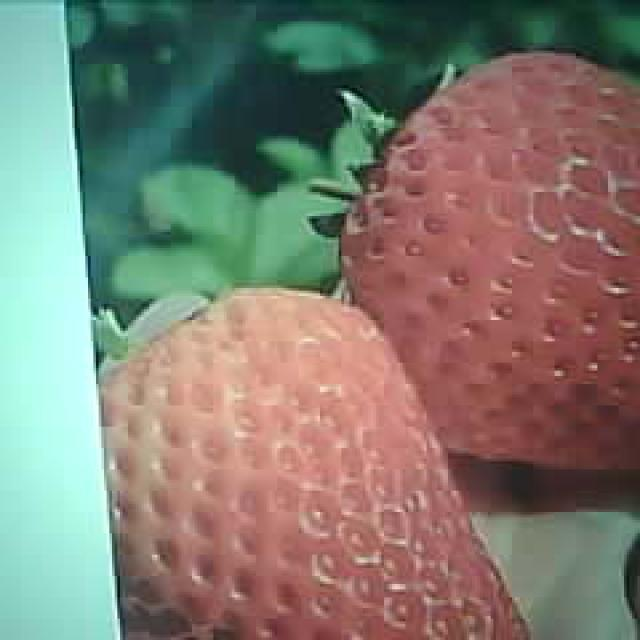ripe: (95, 292, 531, 640), (333, 51, 640, 467)
